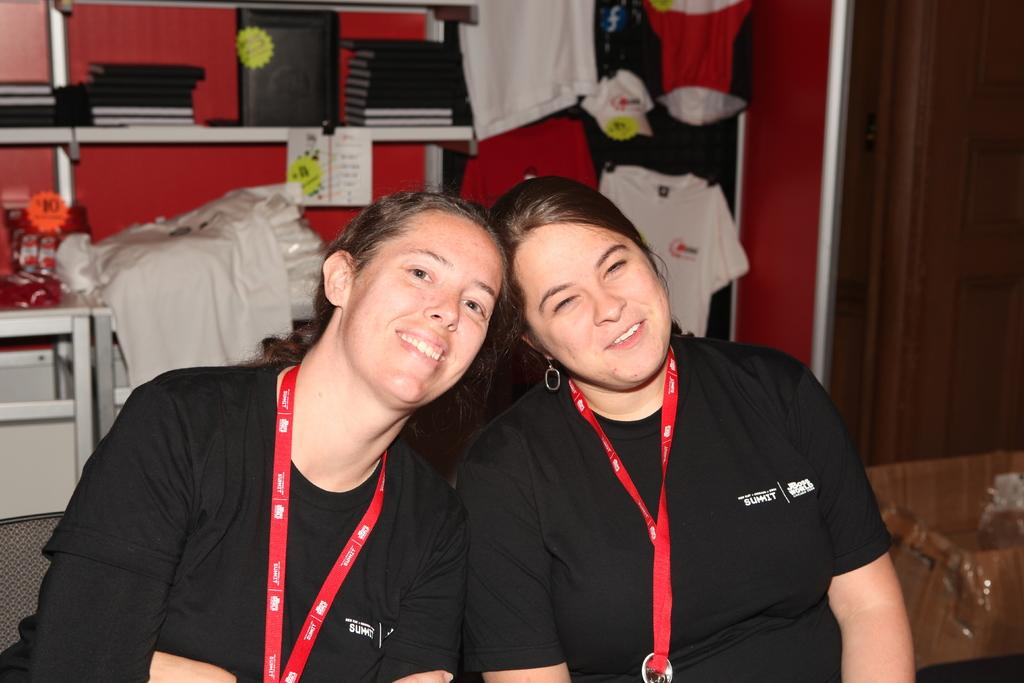Sem Máscara: (338, 213, 501, 409), (512, 222, 677, 389)
